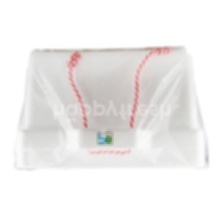foam_box: (8, 41, 212, 176)
